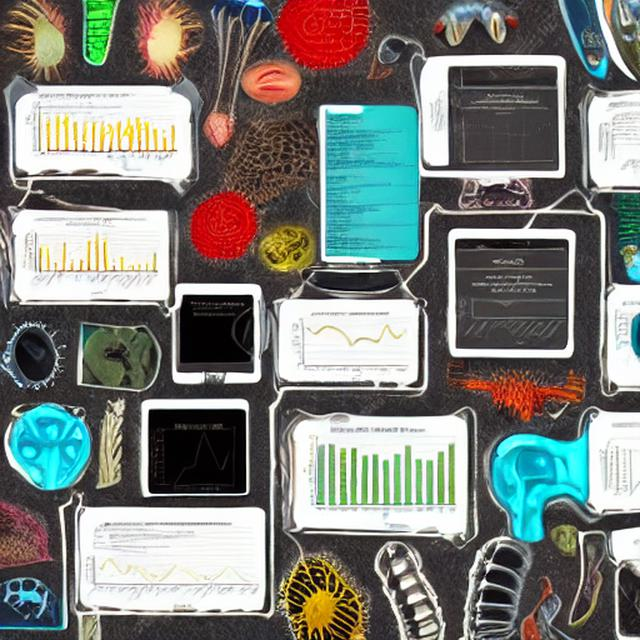Graph: (300, 425, 461, 519), (19, 214, 161, 297), (292, 310, 411, 378), (458, 280, 569, 347), (451, 105, 559, 171), (149, 420, 246, 493), (82, 544, 180, 602)
